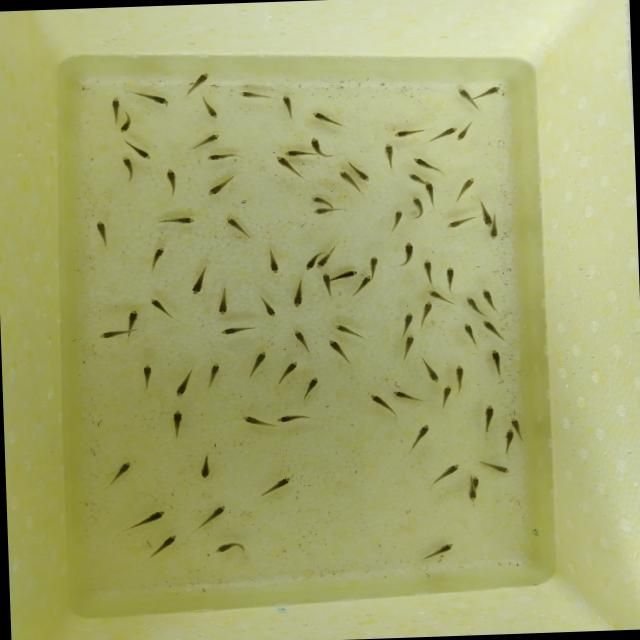fingerling: (142, 534, 180, 562), (256, 474, 294, 498), (195, 505, 227, 532), (190, 260, 212, 296), (131, 509, 171, 528), (408, 426, 433, 456), (428, 462, 462, 484), (324, 336, 350, 364), (105, 460, 132, 486), (306, 106, 337, 128), (224, 214, 250, 240), (183, 70, 210, 94), (194, 453, 216, 482), (471, 458, 508, 475), (147, 296, 173, 320), (145, 246, 169, 272), (208, 174, 235, 197), (408, 154, 441, 172), (116, 154, 138, 181), (125, 138, 152, 160), (195, 130, 228, 148), (233, 413, 270, 429), (278, 359, 298, 388), (168, 409, 188, 438), (213, 282, 229, 318), (248, 348, 270, 374), (213, 540, 246, 557), (351, 276, 374, 300), (480, 321, 504, 344), (159, 214, 198, 228), (388, 388, 422, 404), (422, 357, 442, 384), (173, 371, 193, 398), (386, 208, 406, 235), (431, 125, 459, 144), (368, 392, 391, 415), (422, 543, 453, 560), (205, 363, 222, 393), (95, 219, 112, 249), (454, 177, 476, 200), (306, 136, 329, 158), (220, 324, 256, 338), (480, 406, 498, 434), (473, 82, 502, 99), (274, 154, 296, 176), (200, 98, 222, 120), (290, 328, 310, 352), (455, 88, 479, 108), (279, 93, 296, 121), (502, 430, 519, 458), (100, 328, 136, 341), (265, 247, 281, 276), (411, 193, 428, 220), (304, 374, 323, 398), (140, 362, 156, 390), (436, 384, 452, 412), (462, 323, 479, 349), (452, 122, 474, 142), (443, 214, 474, 228), (258, 293, 276, 317), (487, 351, 503, 378), (293, 280, 307, 310), (392, 128, 422, 142), (274, 411, 304, 425), (202, 151, 240, 162), (478, 202, 494, 228), (144, 91, 171, 106), (336, 169, 356, 189), (480, 288, 498, 310), (381, 146, 396, 172), (124, 306, 140, 330), (236, 90, 273, 100), (366, 254, 379, 282), (306, 194, 332, 208), (402, 241, 417, 265), (401, 332, 418, 353), (466, 294, 482, 316), (399, 312, 415, 334), (331, 323, 356, 337), (308, 206, 337, 218), (354, 166, 373, 184), (315, 252, 334, 270), (164, 167, 178, 191), (422, 258, 435, 283), (421, 300, 437, 320), (118, 115, 134, 135), (282, 148, 308, 160), (424, 289, 448, 302), (404, 170, 426, 184), (446, 266, 457, 291), (322, 271, 332, 298), (509, 416, 524, 434), (334, 269, 361, 279), (453, 365, 464, 389), (109, 97, 121, 119), (424, 180, 436, 202), (490, 219, 500, 239), (304, 256, 316, 272), (472, 474, 482, 490), (467, 488, 478, 500)
